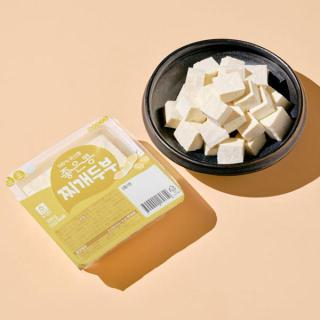Tahu: (151, 49, 299, 165)
